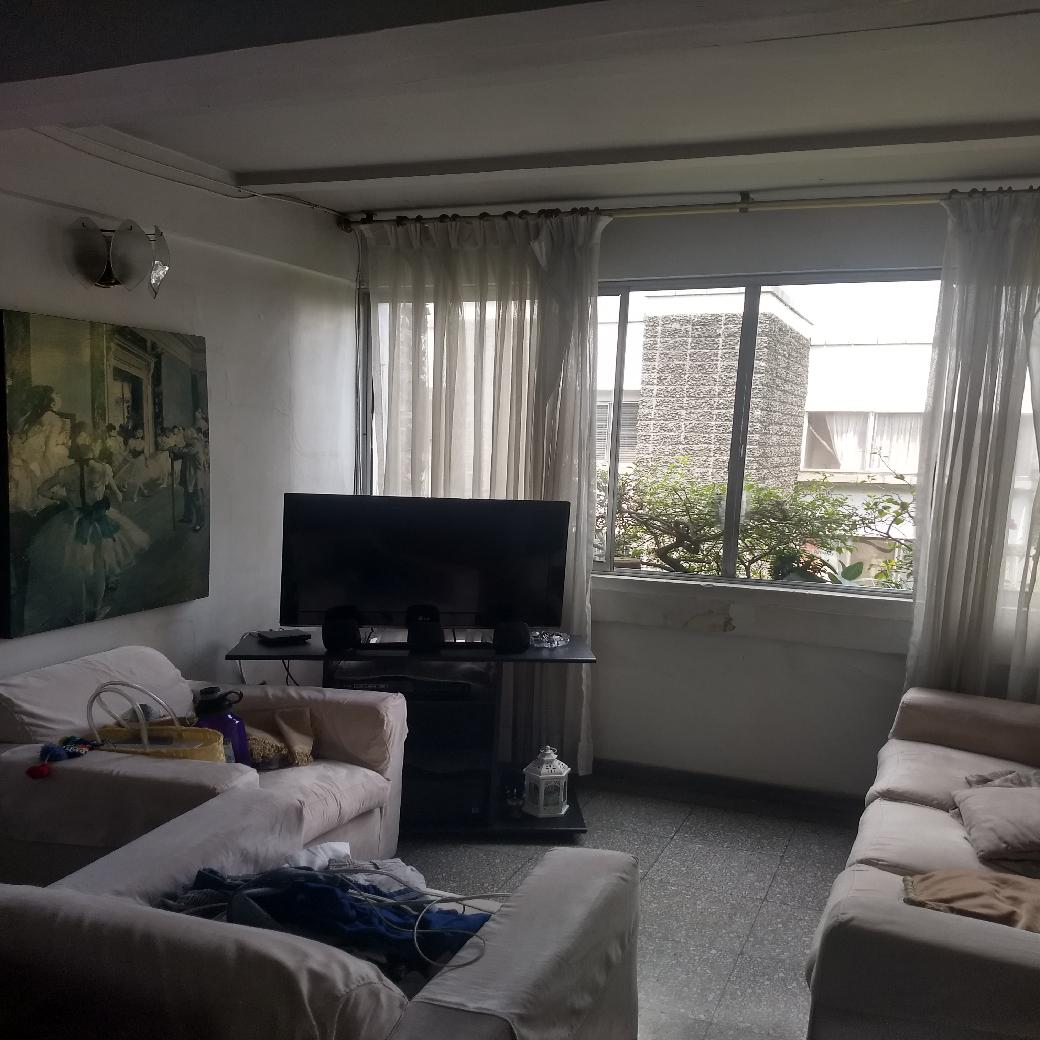tv: (282, 497, 569, 635)
